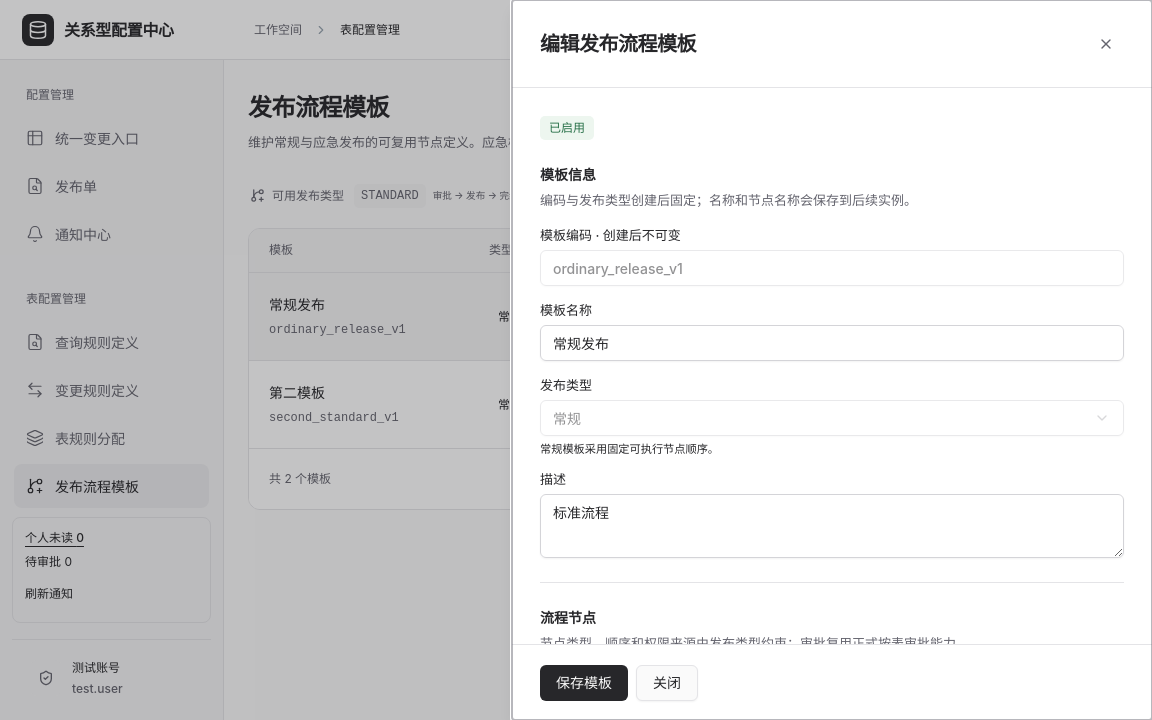
it: 发布流程模板页面 › does not carry a discarded template error into another target
Replace the text in the field labelled "模板名称" with "冲突输入". click: (832, 343)
box: [540, 325, 1124, 361]
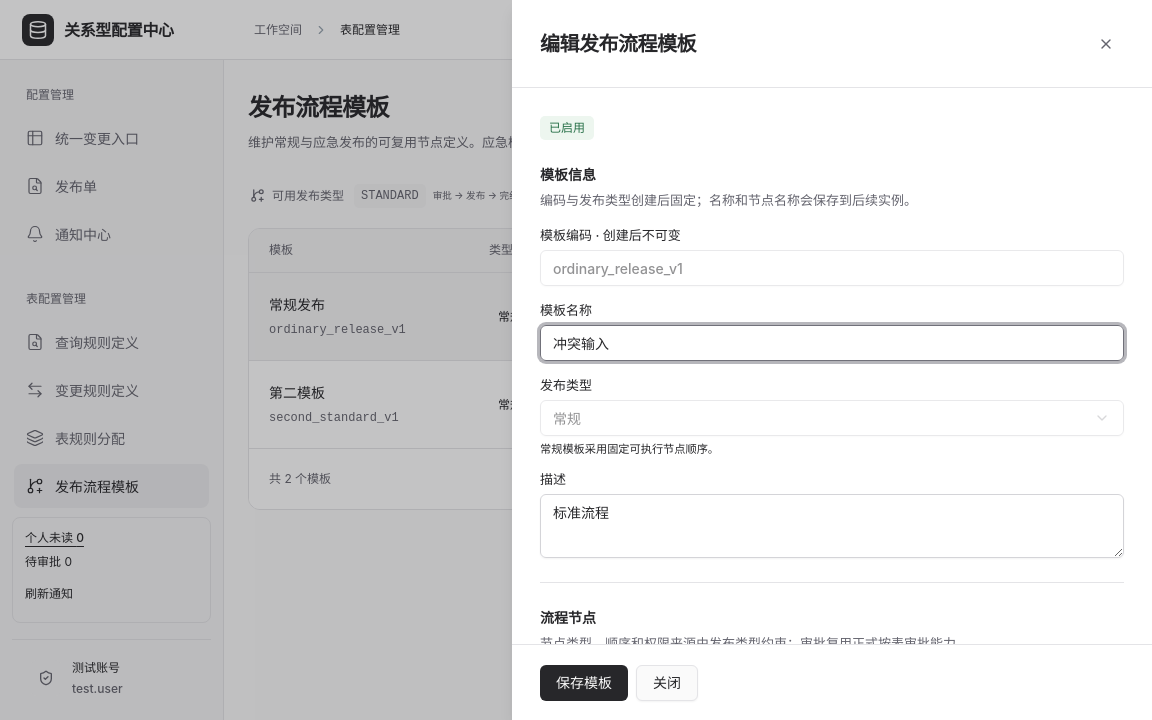
Click the button "保存模板". click: (584, 682)
box: [540, 664, 628, 700]
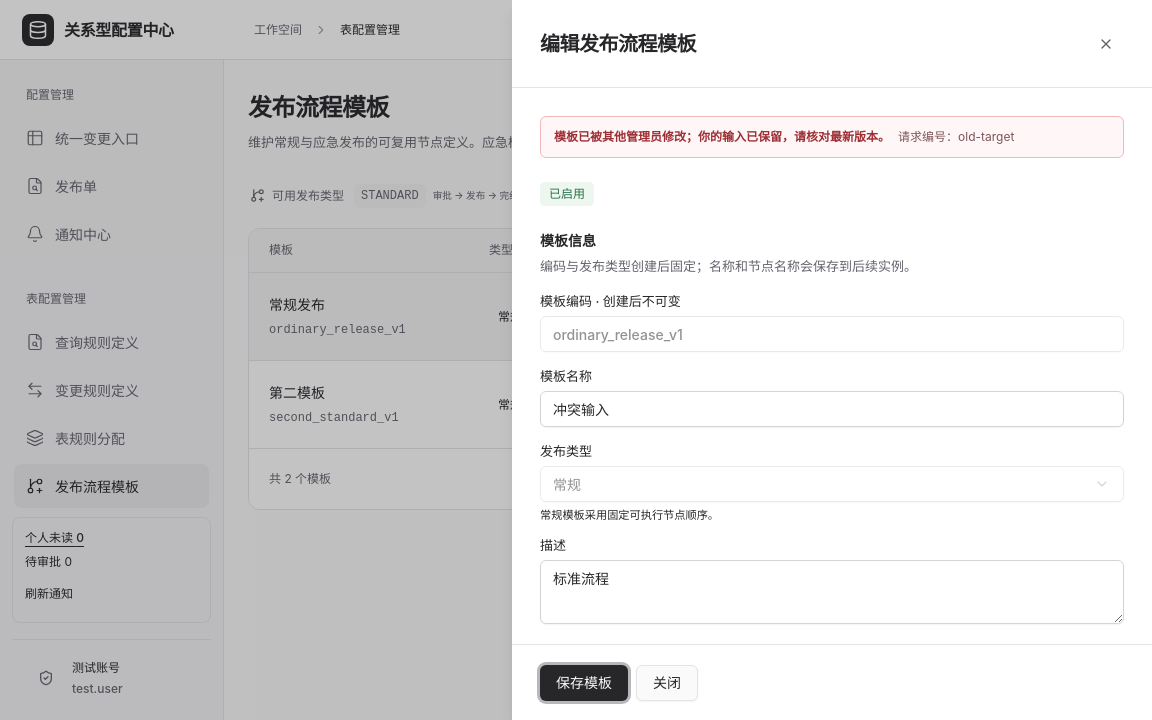
Expected: the text "模板已被其他管理员修改；你的输入已保留，请核对最新版本。" is shown, [554, 128, 890, 146]
Click the button "关闭". click: (667, 682)
box: [636, 664, 698, 700]
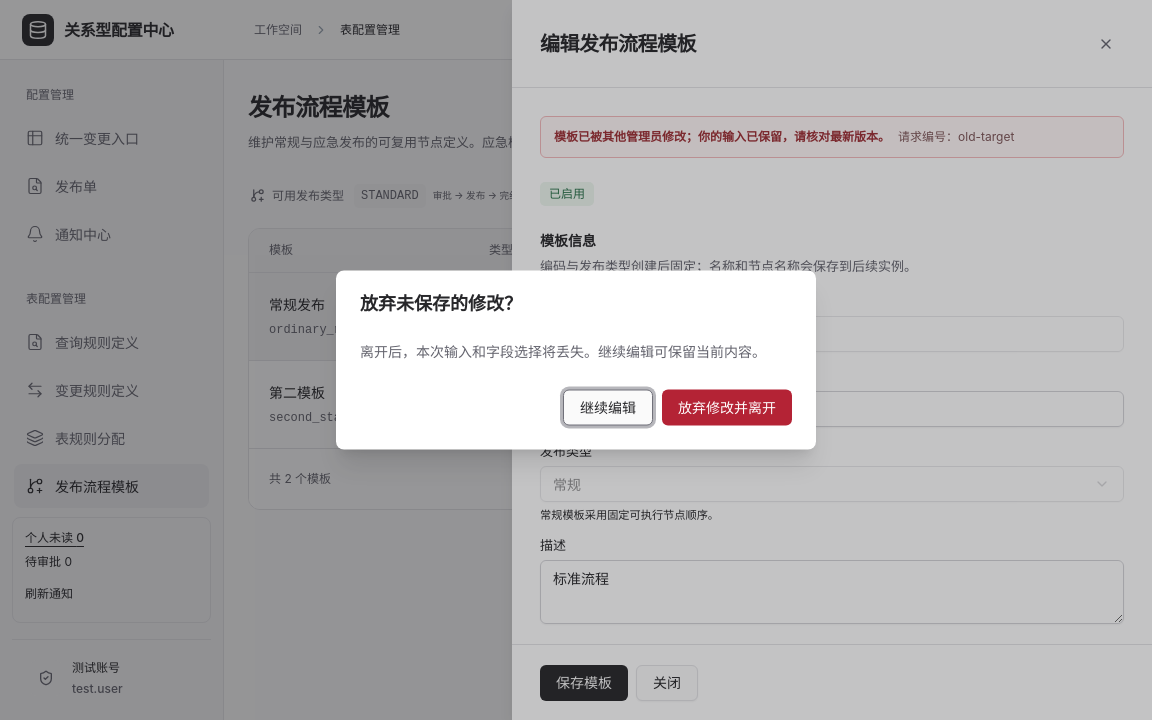
Click the button "放弃修改并离开". click: (727, 408)
box: [662, 390, 792, 426]
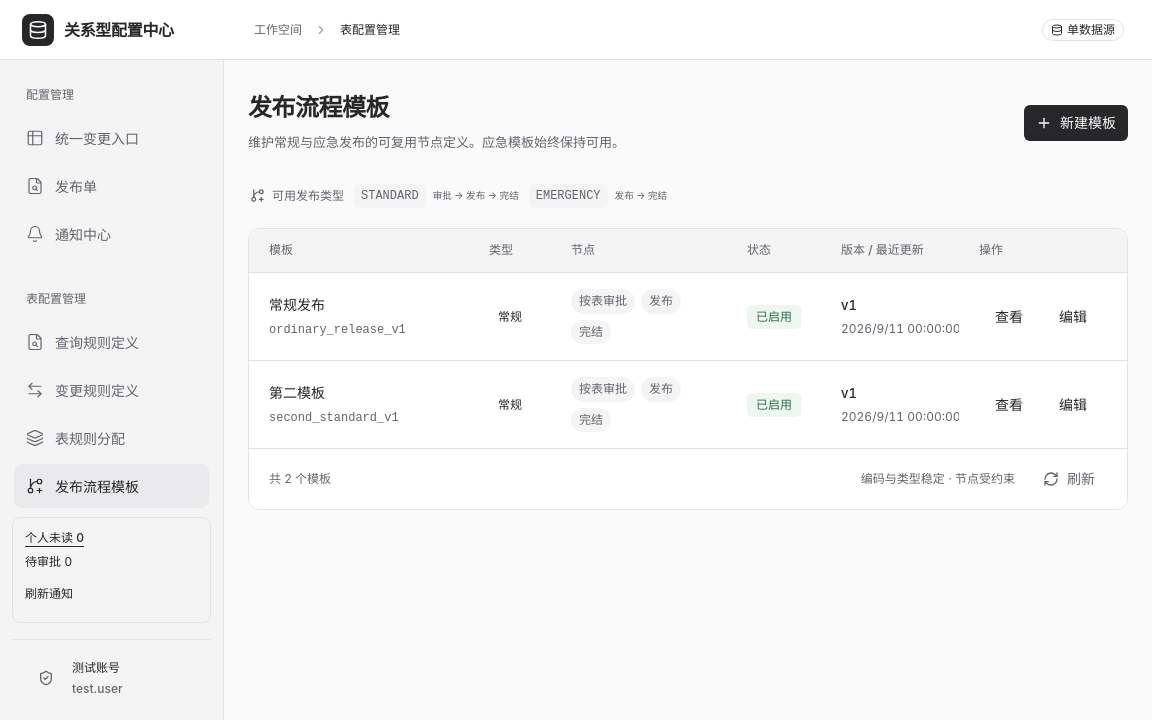
Click the button "编辑" in the row of "第二模板". click: (1073, 405)
box: [1043, 387, 1103, 423]
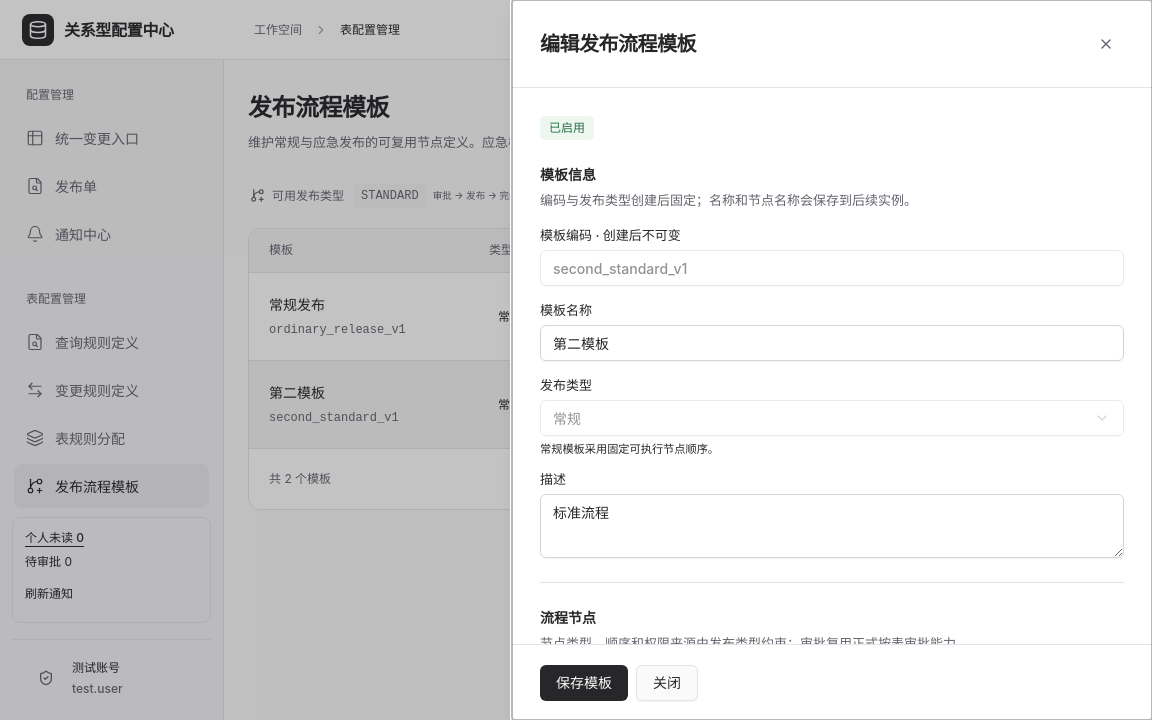
Expected: the text "模板已被其他管理员修改" is not shown
Expected: the field showing "第二模板" is shown, [540, 325, 1124, 361]
